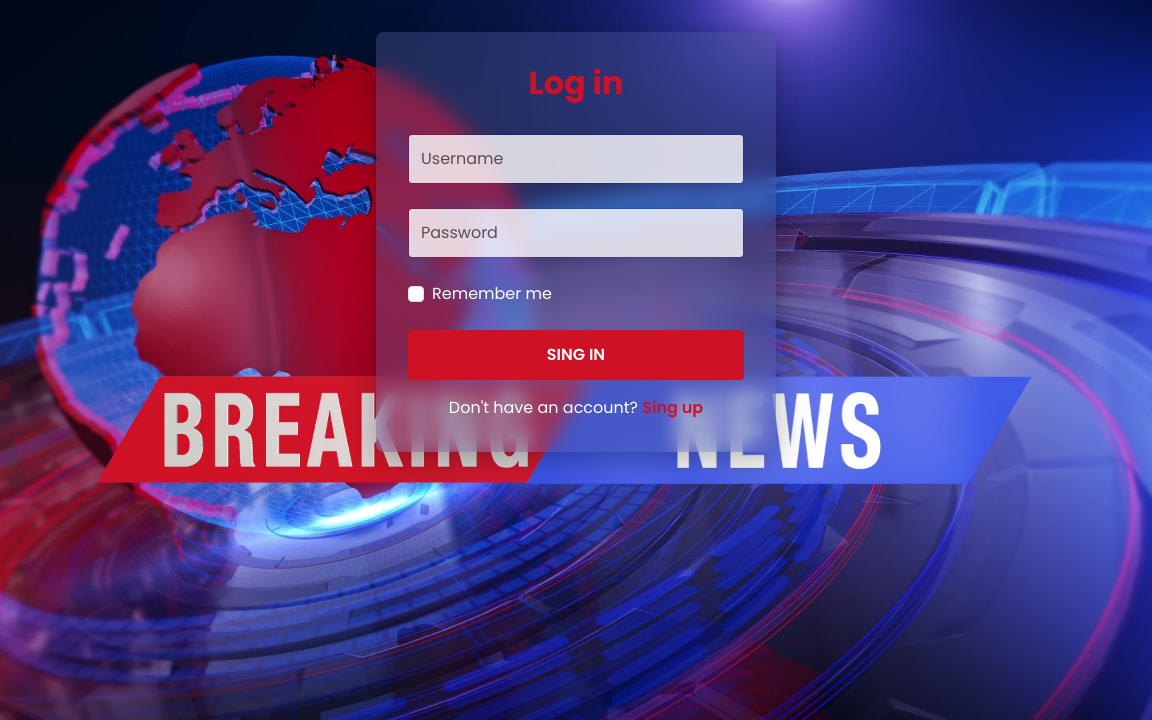
Scenario: LoginPage › should display error message on login failure
In the field with placeholder "Username": (576, 159) left=408, top=134, right=744, bottom=184, type "testuser"
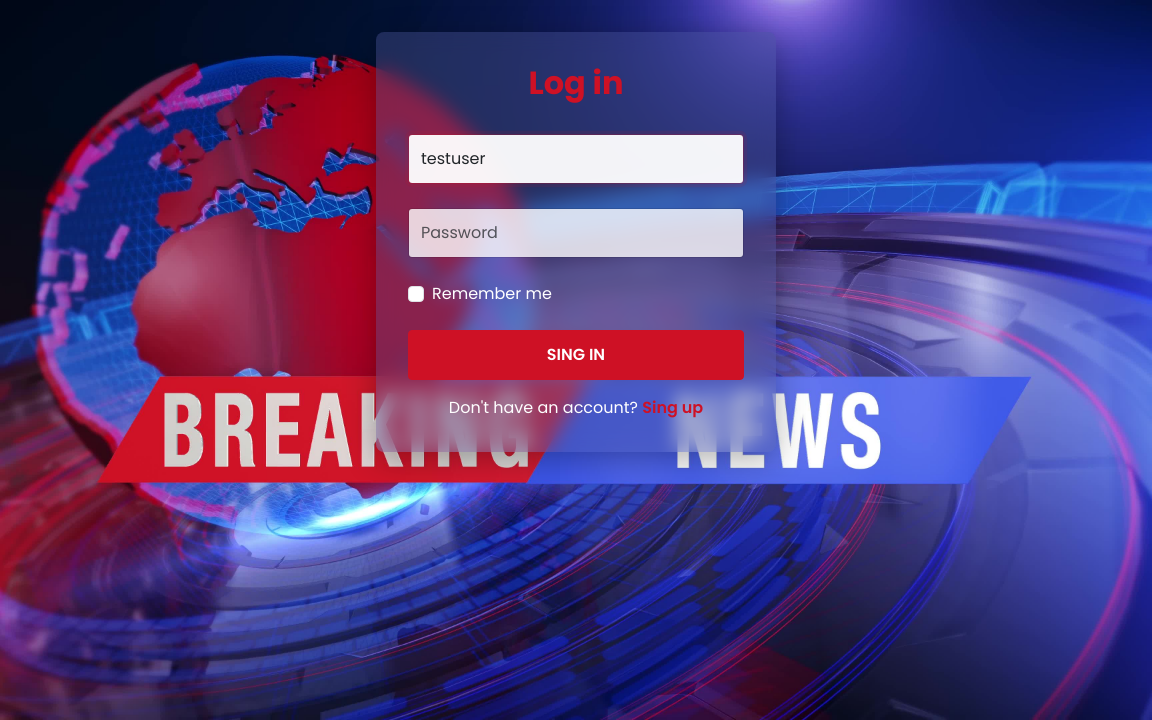
In the password field with placeholder "Password": (576, 233) left=408, top=208, right=744, bottom=258, type "wrongpass"
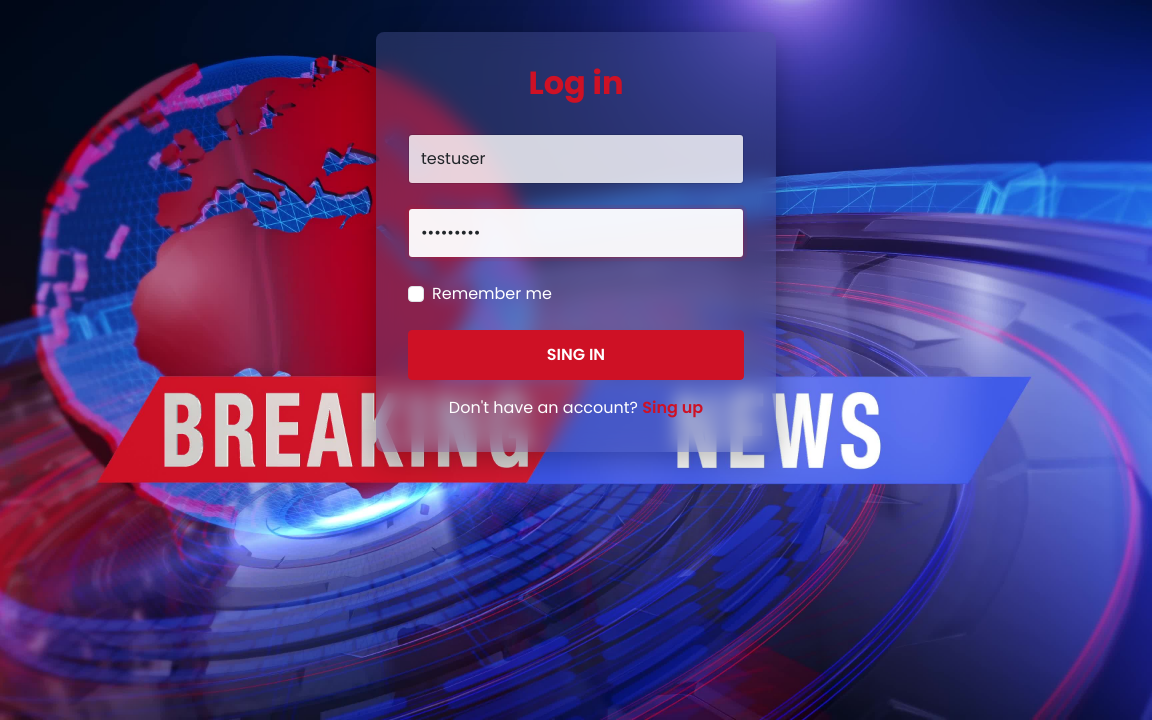
Click the button "SING IN": click(576, 355) left=408, top=330, right=744, bottom=380
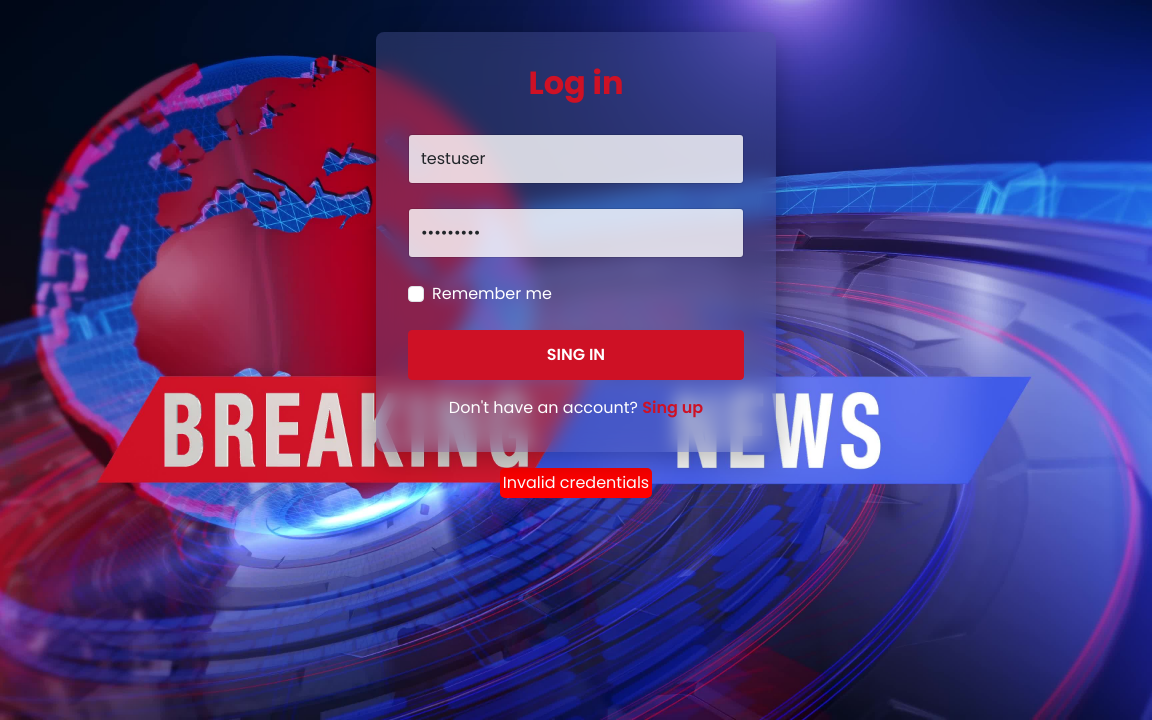
Expected: the text "Invalid credentials" is shown, left=500, top=468, right=652, bottom=498
